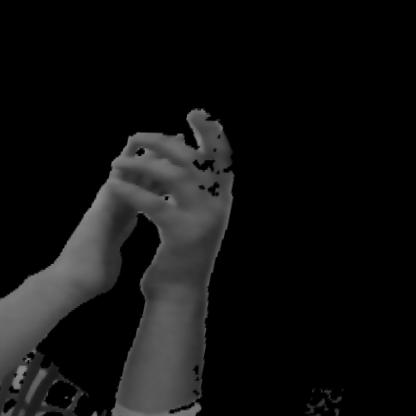clap: (52, 93, 280, 348)
